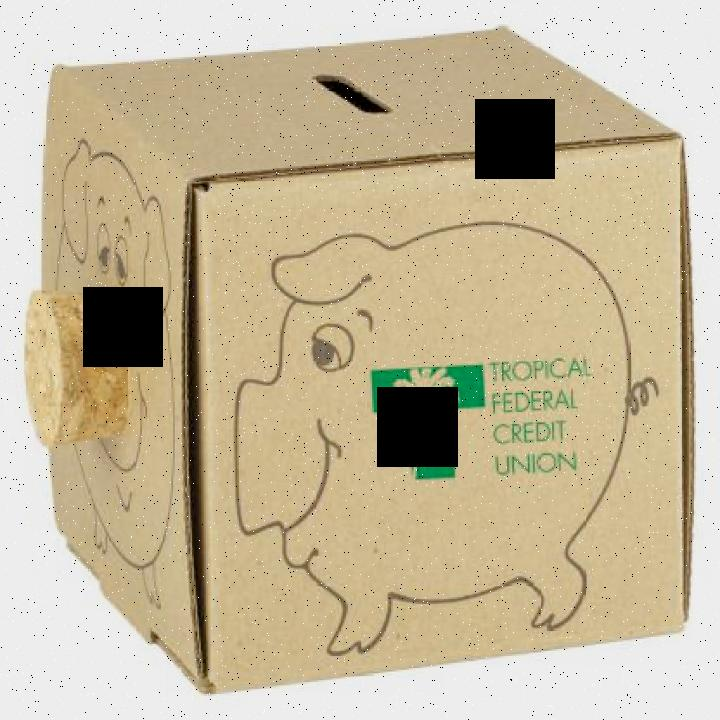box: (18, 22, 704, 695)
